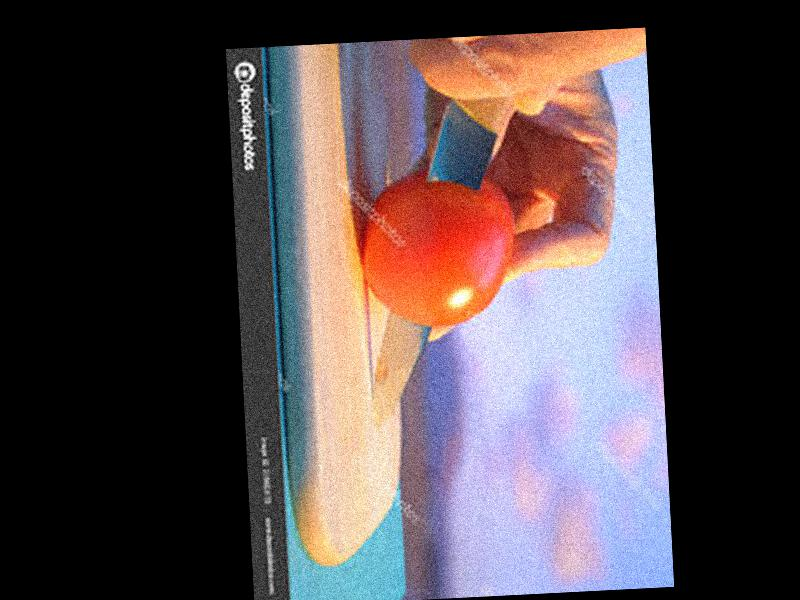Tomato: (355, 167, 517, 332)
